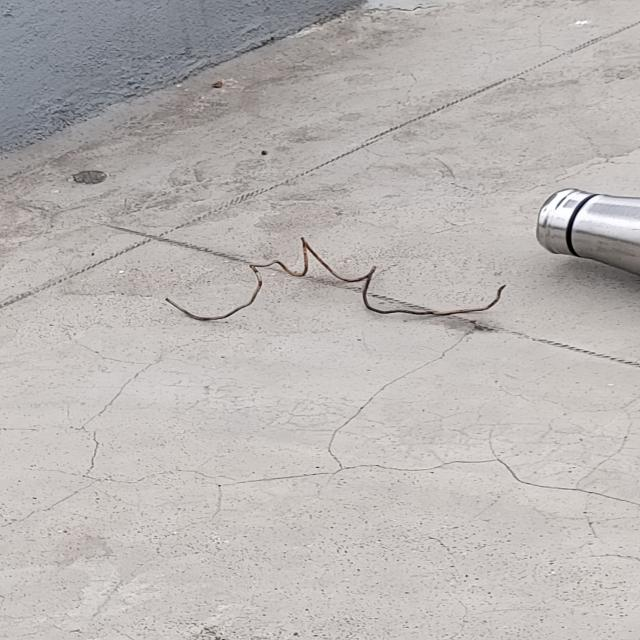metal: (160, 235, 510, 326), (534, 169, 640, 283)
